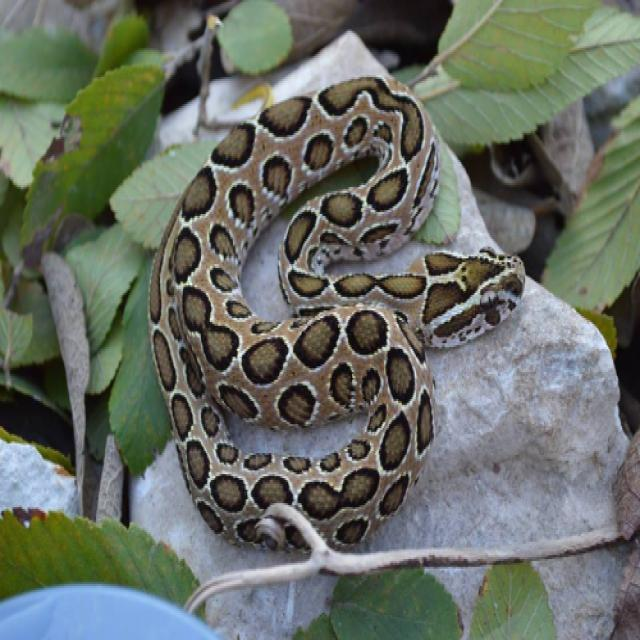Snake: (146, 72, 526, 556)
